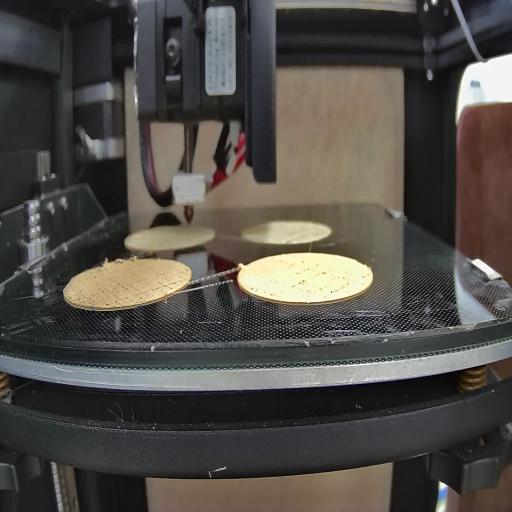under_extrusion: (66, 274, 188, 305), (286, 260, 368, 300), (250, 280, 277, 310)
